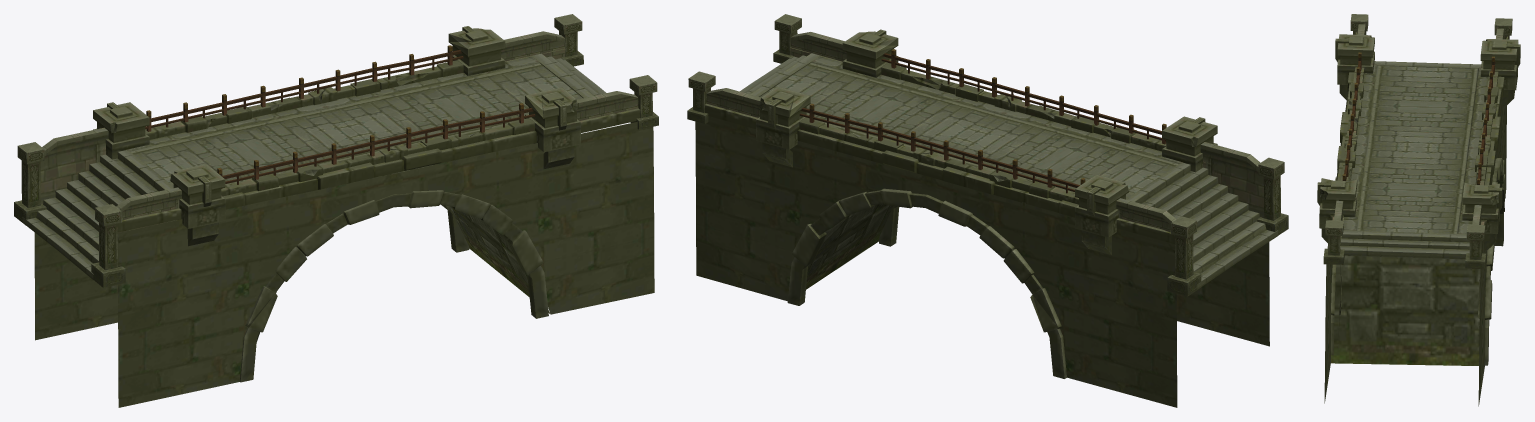
3 views of the same model, side by side, from view 1: azimuth 30°, elevation 25°; view 2: azimuth 150°, elevation 25°; view 3: azimuth 270°, elevation 25° (orthographic). The views are drawn at different scales.
Visible parts, largest first — view 1: A_jz_11; view 2: A_jz_11; view 3: A_jz_11.
Boxes of the visible parts, x1=… form: A_jz_11: x1=14, y1=14, x2=658, y2=407; A_jz_11: x1=687, y1=14, x2=1288, y2=407; A_jz_11: x1=1317, y1=14, x2=1520, y2=406.
Bounding box in the file's own units: 65.7 × 24.39 × 24.61.
